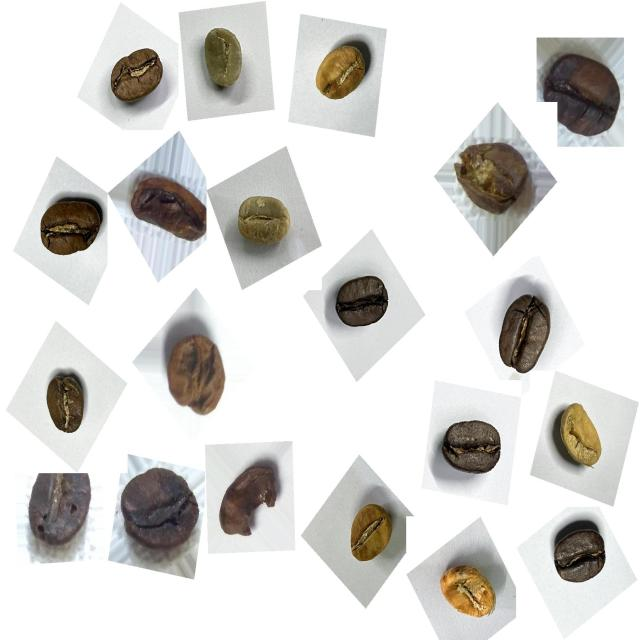bad: (537, 42, 630, 152), (112, 457, 204, 566), (447, 128, 538, 227), (160, 321, 240, 423), (210, 451, 287, 551), (126, 164, 209, 256), (18, 467, 96, 558)
dark: (485, 285, 561, 386), (432, 405, 510, 489), (544, 514, 616, 600), (328, 262, 400, 342)
green: (229, 182, 301, 260), (192, 16, 256, 102)
light: (306, 28, 382, 117), (432, 551, 506, 632), (546, 394, 613, 480), (336, 498, 400, 578)
medium: (30, 185, 108, 272), (102, 36, 173, 114), (36, 368, 96, 444)
